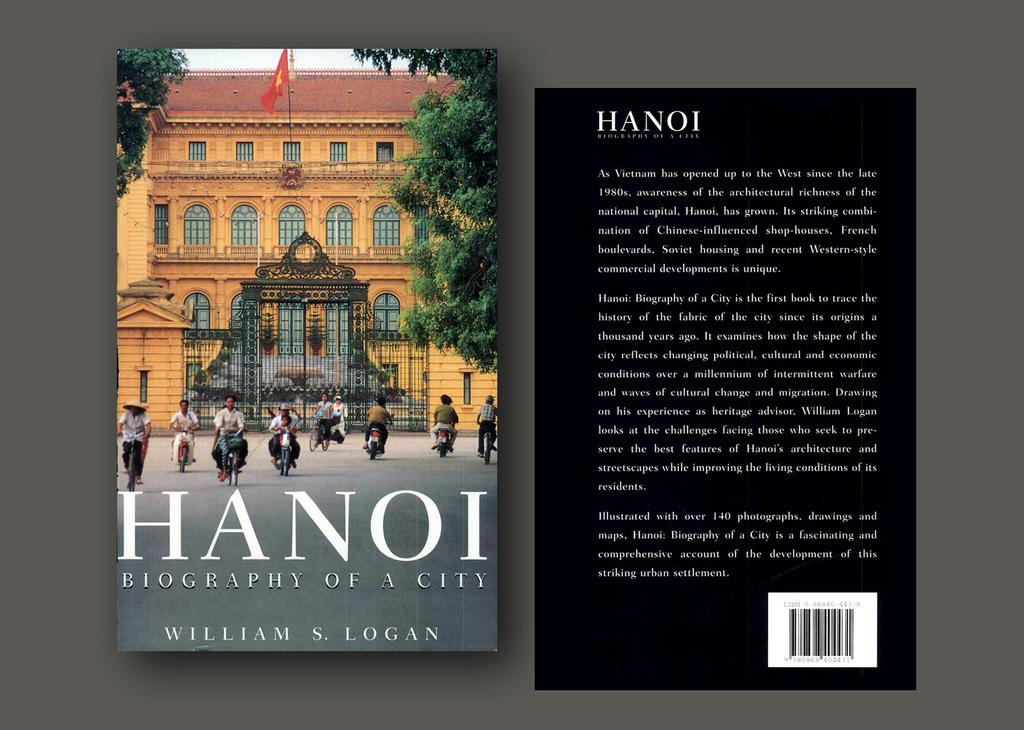book: (120, 38, 509, 661), (537, 92, 921, 692)
